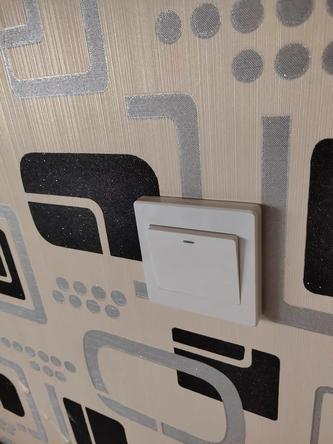switch: (142, 217, 249, 311)
